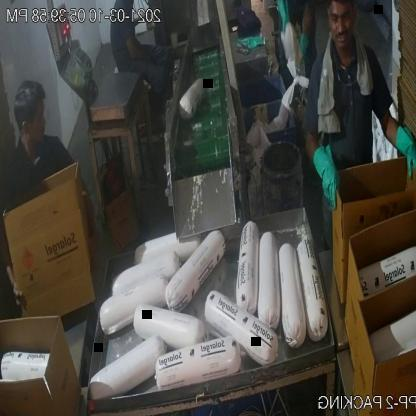glove: (304, 127, 346, 212), (392, 113, 416, 186)
no_glove: (78, 169, 100, 275), (126, 26, 157, 65)
